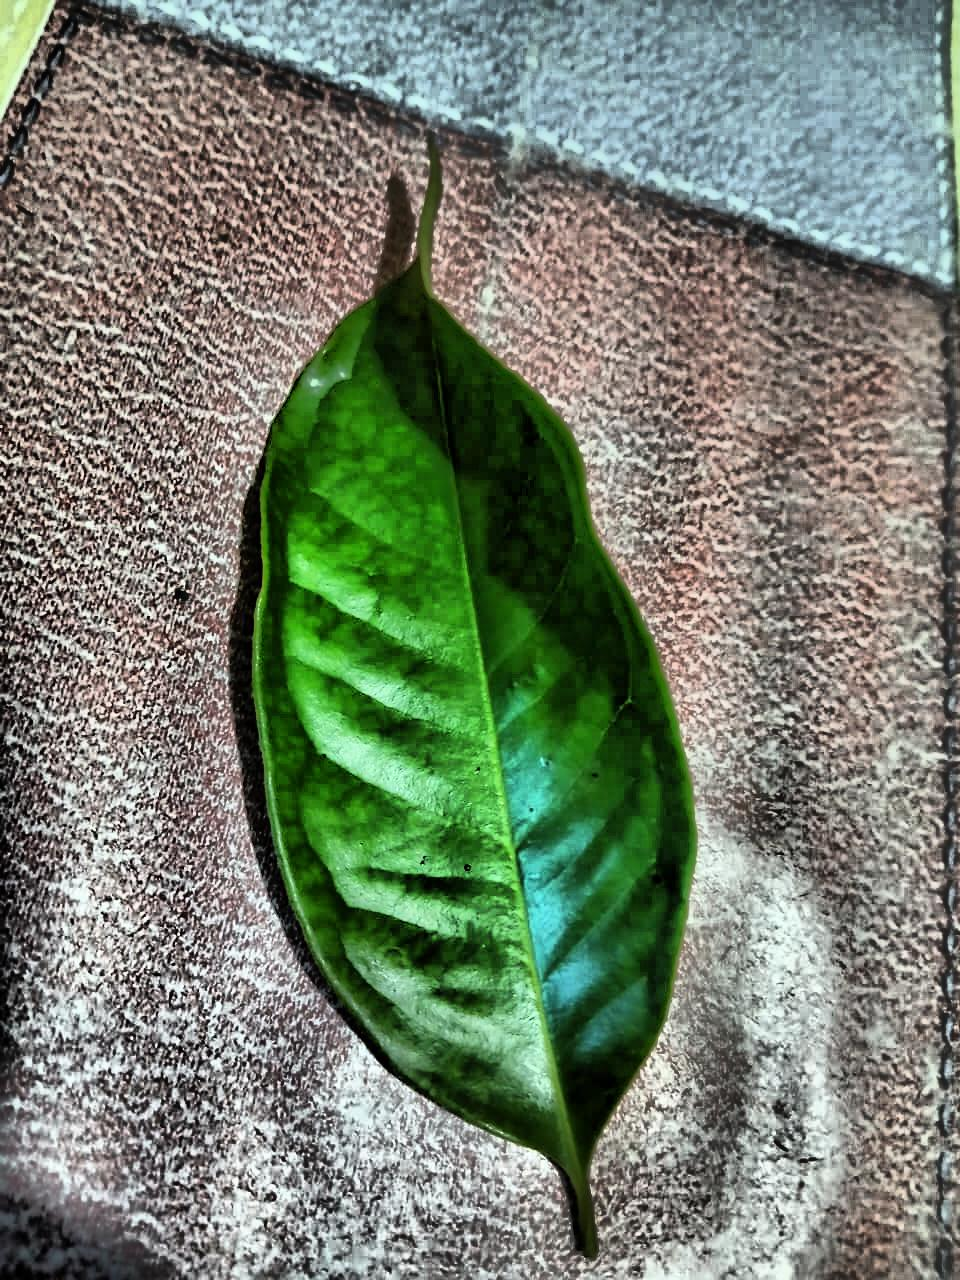daun salam: (253, 144, 695, 1254)
